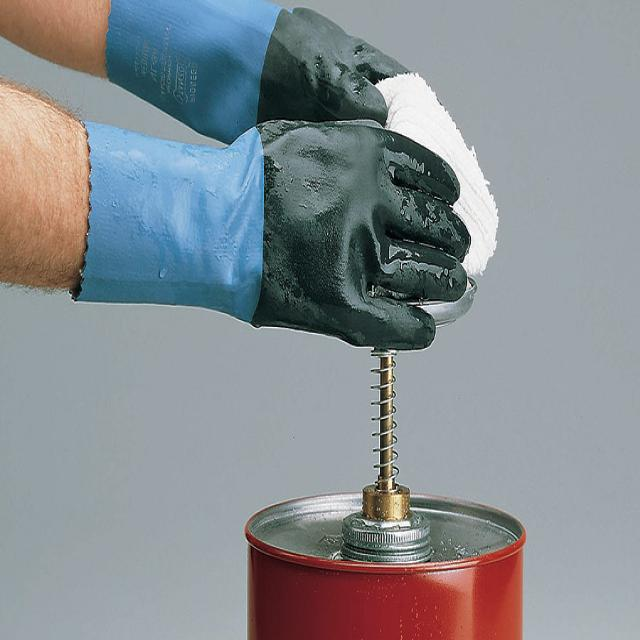gloves: (73, 108, 474, 353), (102, 2, 421, 146)
